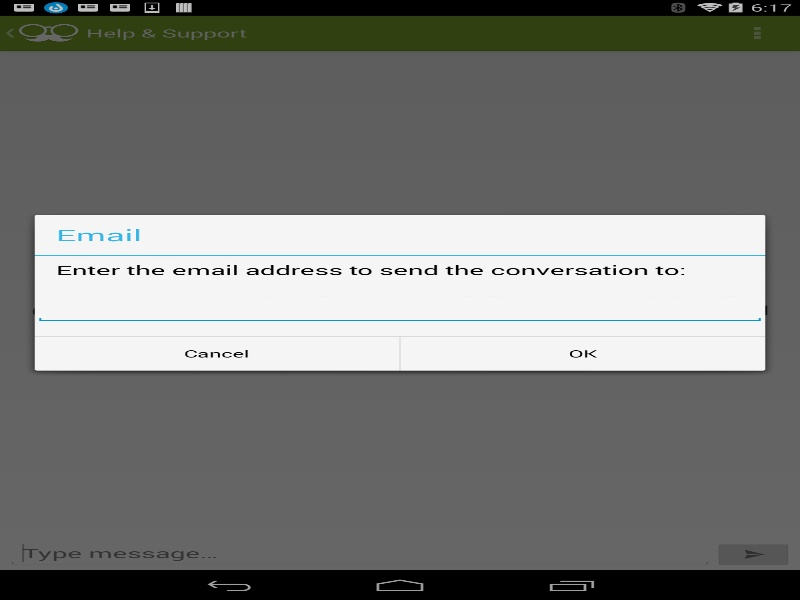Button: (34, 336, 399, 370), (400, 336, 765, 370)
Input: (34, 296, 765, 323)
